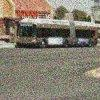buses: (15, 20, 98, 50)
